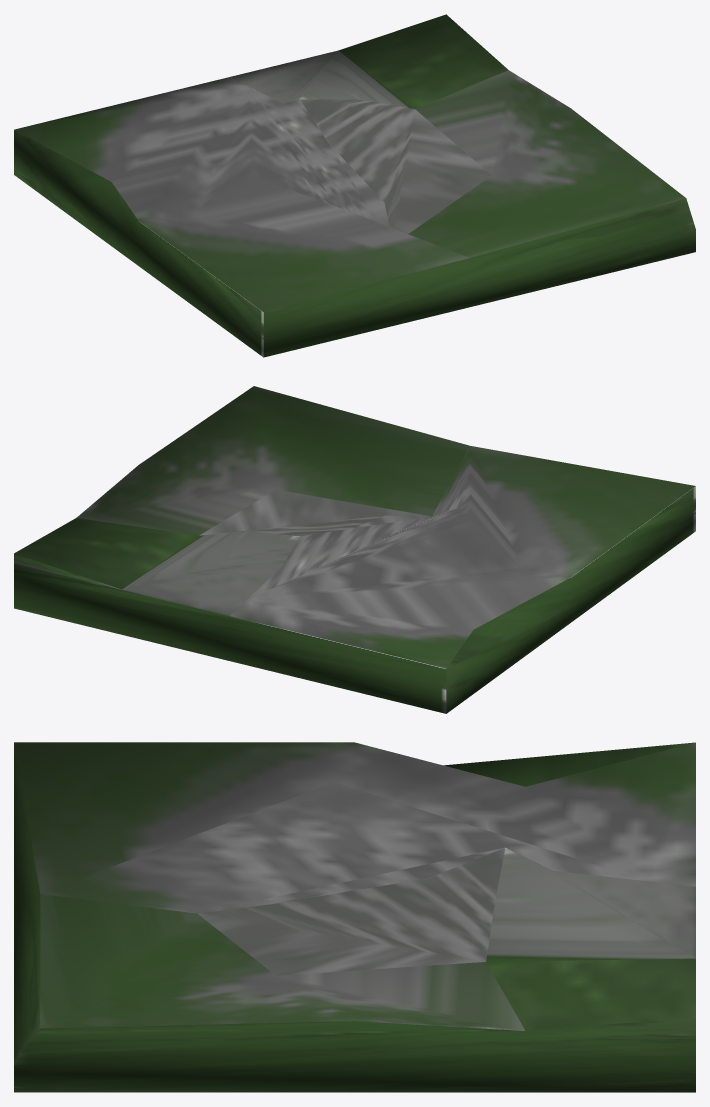
The model's file is old_rune.obj.
3 renders of one model, top to bottom at view 1: azimuth 30°, elevation 25°; view 2: azimuth 150°, elevation 25°; view 3: azimuth 270°, elevation 25°, orthographic. The views are drawn at different scales.
Parts seen in each view (by area): view 1: Cube; view 2: Cube; view 3: Cube.
Part boxes in pixels (x1=…): Cube: x1=14, y1=14, x2=695, y2=357; Cube: x1=14, y1=386, x2=695, y2=713; Cube: x1=14, y1=742, x2=695, y2=1092.
Size of the model in its own units: 1 by 0.1631 by 1.
